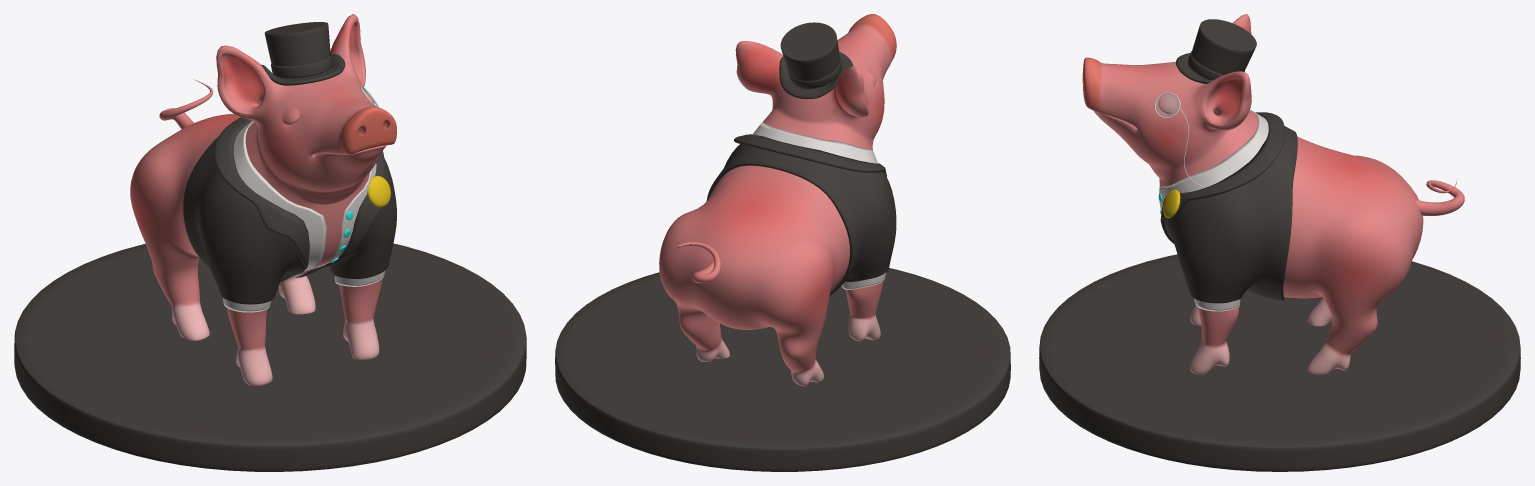
The model's file is pig (1).glb.
The picture shows the model from 3 angles, left to right: view 1: azimuth 30°, elevation 25°; view 2: azimuth 150°, elevation 25°; view 3: azimuth 270°, elevation 25°; orthographic projection. The views are drawn at different scales.
Visible parts, largest first — view 1: Object_9, Object_8, Object_5, Object_11, Object_3, Object_6, Object_4, Object_12; view 2: Object_9, Object_8, Object_5, Object_3, Object_11, Object_4; view 3: Object_9, Object_8, Object_5, Object_3, Object_11, Object_4.
Part boxes in pixels (x1,y1,x2,y2): Object_9: (14, 243, 526, 471); Object_8: (130, 14, 396, 386); Object_5: (183, 117, 396, 304); Object_11: (223, 121, 385, 312); Object_3: (261, 22, 345, 85); Object_6: (271, 55, 332, 78); Object_4: (159, 79, 213, 129); Object_12: (367, 176, 390, 207); Object_9: (555, 268, 1010, 471); Object_8: (659, 14, 896, 386); Object_5: (706, 134, 896, 295); Object_3: (779, 22, 852, 99); Object_11: (752, 122, 885, 289); Object_4: (677, 242, 720, 283); Object_9: (1039, 254, 1520, 471); Object_8: (1082, 14, 1423, 375); Object_5: (1160, 112, 1297, 303); Object_3: (1176, 19, 1256, 83); Object_11: (1159, 110, 1268, 311); Object_4: (1415, 179, 1464, 216).
Size of the model in its own units: 5.42 by 4.27 by 5.42.
12 materials, 12 textured.
